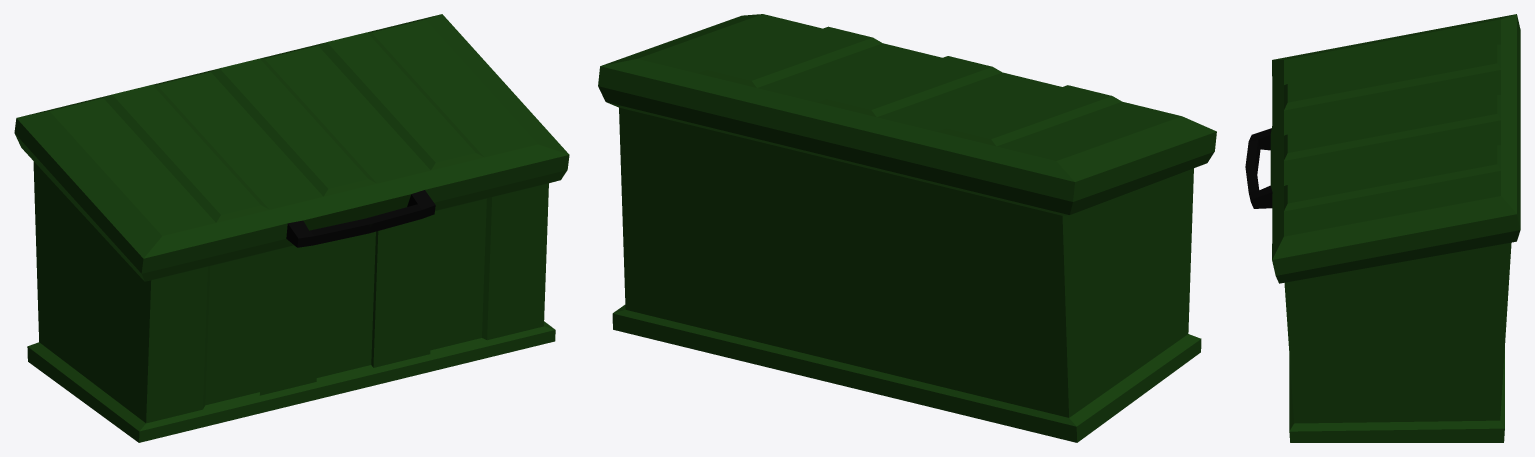
File: GarbageBin.fbx
3 renders of one model, left to right at view 1: azimuth 30°, elevation 25°; view 2: azimuth 150°, elevation 25°; view 3: azimuth 270°, elevation 25°, orthographic. The views are drawn at different scales.
Parts seen in each view (by area): view 1: Cube; view 2: Cube; view 3: Cube.
Boxes of the visible parts, x1,y1,x2,y2 form: Cube: (14,14,569,442); Cube: (598,14,1216,442); Cube: (1245,14,1520,442).
Bounding box in the file's own units: 409 × 230 × 238.
1 material, 1 textured.
